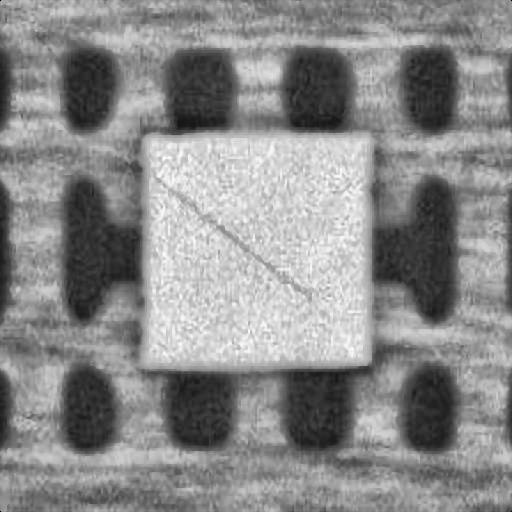DIE_CRACK: (231, 117, 464, 198)
